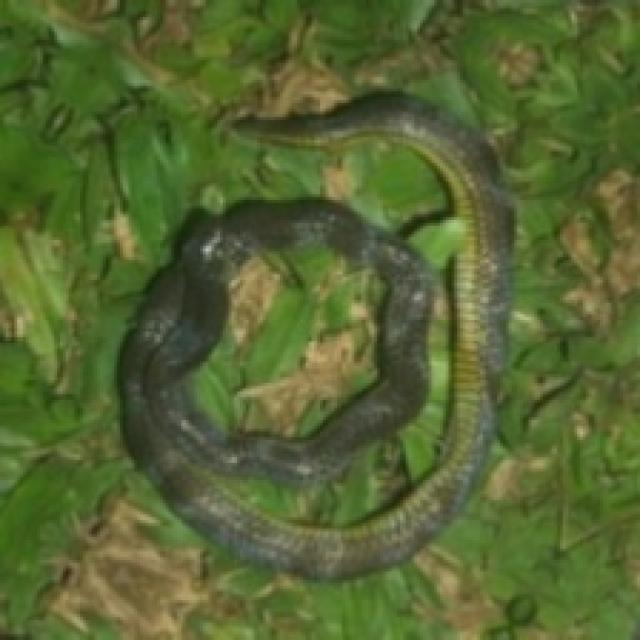gervais worm snake: (119, 92, 514, 578)
